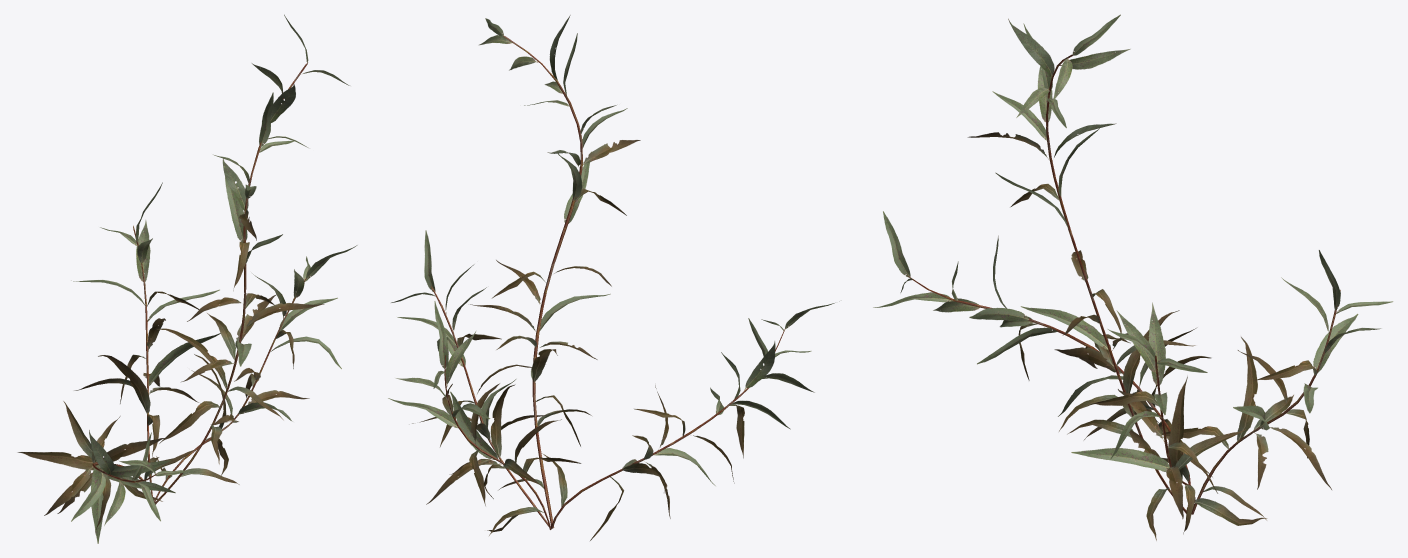
The model's file is cespuglio_a.glb.
3 renders of one model, left to right at view 1: azimuth 30°, elevation 25°; view 2: azimuth 150°, elevation 25°; view 3: azimuth 270°, elevation 25°, orthographic. The views are drawn at different scales.
Parts seen in each view (by area): view 1: cespuglio_a; view 2: cespuglio_a; view 3: cespuglio_a.
Boxes of the visible parts, x1,y1,x2,y2 form: cespuglio_a: (17,14,357,543); cespuglio_a: (388,15,839,540); cespuglio_a: (873,14,1393,540).
Size of the model in its own units: 1.11 by 1.51 by 1.28.
Materials: 1 (1 with a texture image).
